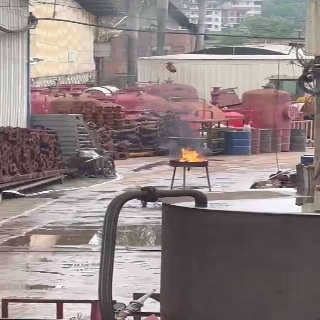fire: (179, 148, 208, 162)
